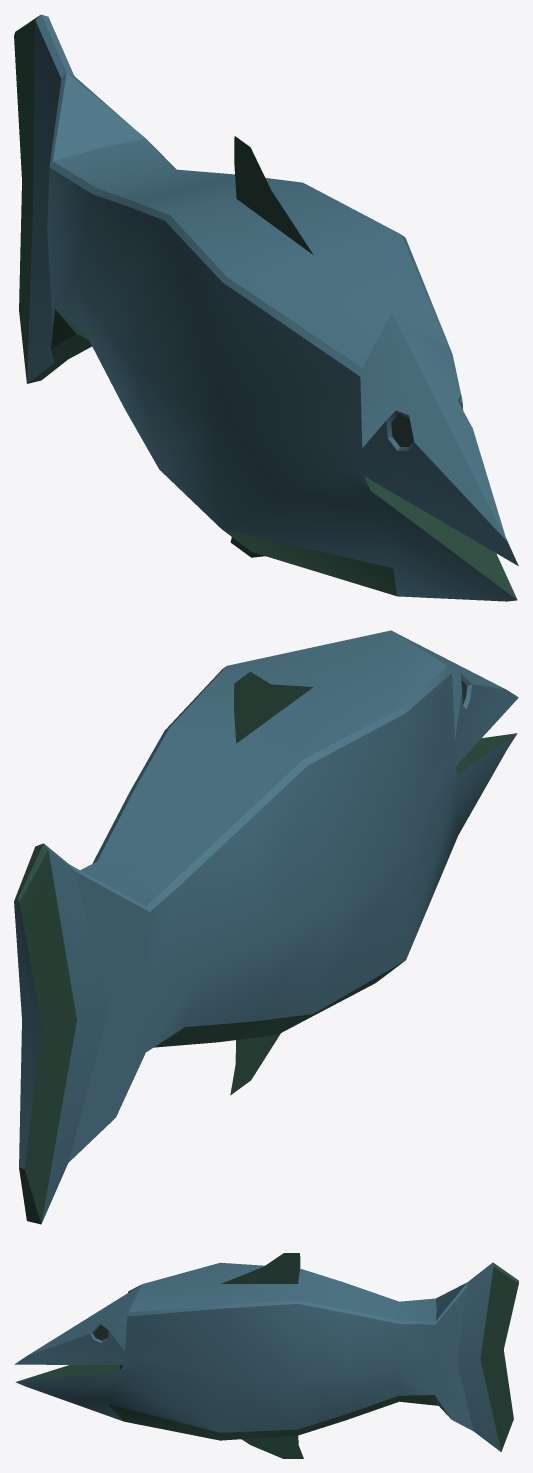
The model's file is 1Fish model.fbx.
3 views of the same model, one above another, from view 1: azimuth 30°, elevation 25°; view 2: azimuth 150°, elevation 25°; view 3: azimuth 270°, elevation 25° (orthographic). The views are drawn at different scales.
Parts seen in each view (by area): view 1: Cube; view 2: Cube; view 3: Cube.
Boxes of the visible parts, x1,y1,x2,y2 form: Cube: [14, 14, 518, 601]; Cube: [14, 630, 518, 1224]; Cube: [14, 1253, 518, 1458].
Size of the model in its own units: 152 by 292 by 648.
